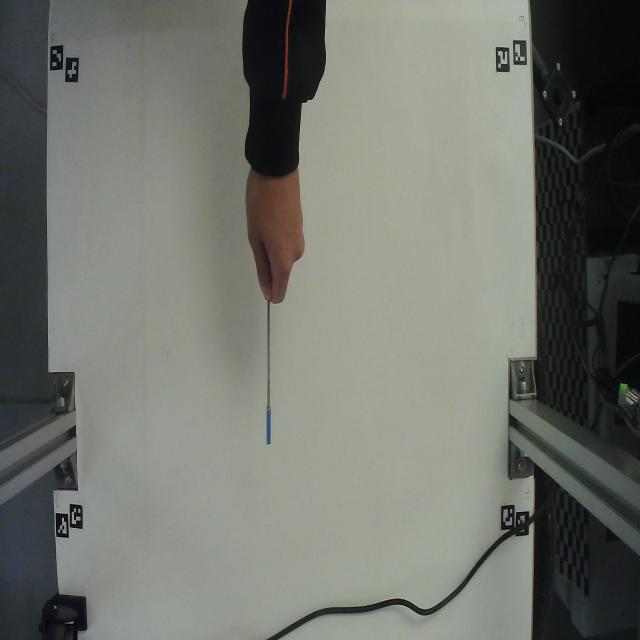NoPres: (250, 298, 281, 458)
